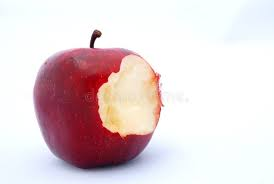apple: (34, 28, 163, 169)
